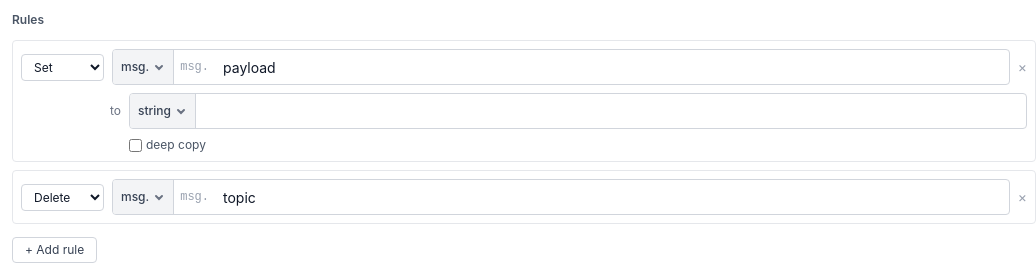
Test: ChangeEditor › removes a rule when the remove button is clicked
Expected: the element with test id "change-rule-0" is shown, [12,40,1035,162]
Expected: the element with test id "change-rule-1" is shown, [12,170,1035,224]
Click the button with test id "change-remove-rule-1".
click(1022, 197)  # box [1018,190,1027,204]
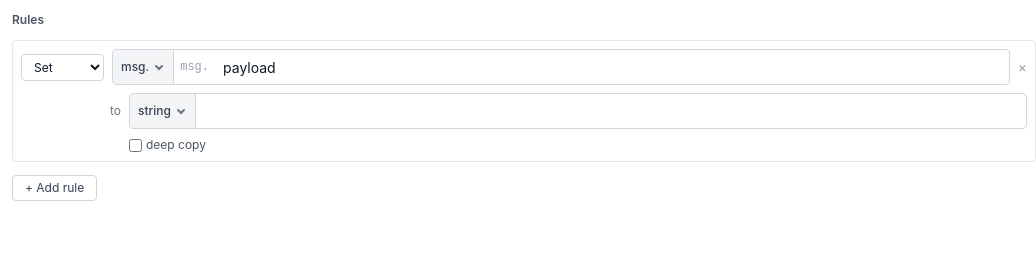
Expected: the element with test id "change-rule-0" is shown, [12,40,1035,162]
Result: the element with test id "change-rule-1" is gone
